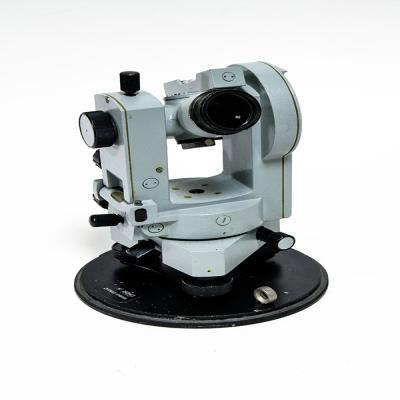technique: (73, 61, 329, 330)
